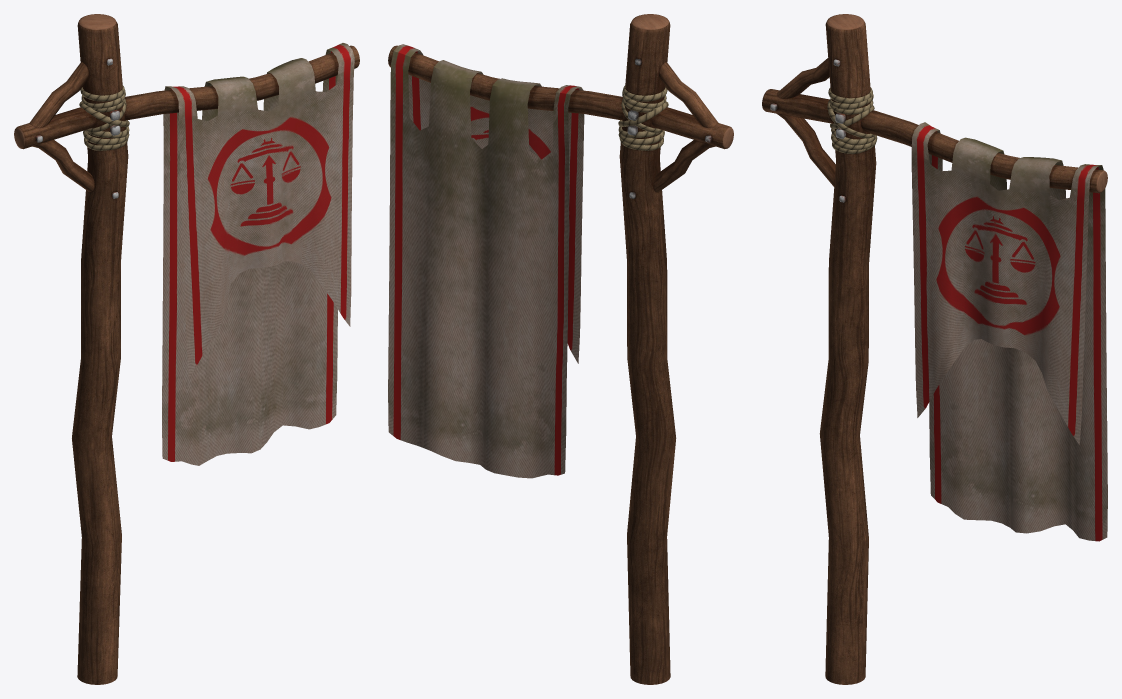
File: banner_post.glb
3 renders of one model, left to right at view 1: azimuth 30°, elevation 25°; view 2: azimuth 150°, elevation 25°; view 3: azimuth 330°, elevation 25°, orthographic.
Parts seen in each view (by area): view 1: defaultMaterial; view 2: defaultMaterial; view 3: defaultMaterial.
Boxes of the visible parts, x1,y1,x2,y2 form: defaultMaterial: (14, 14, 359, 684); defaultMaterial: (388, 14, 733, 684); defaultMaterial: (762, 14, 1107, 684).
Size of the model in its own units: 192 by 359 by 30.17.
Materials: 1 (1 with a texture image).
